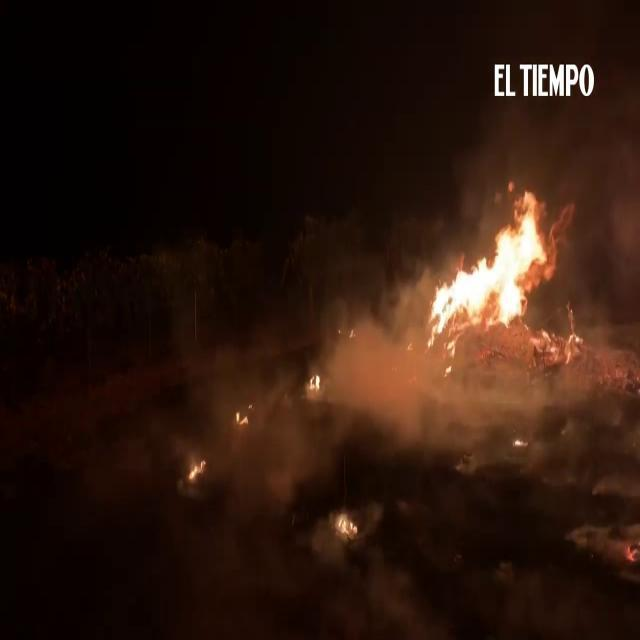Fire: (422, 198, 547, 348), (184, 456, 208, 486), (338, 514, 358, 538), (310, 372, 320, 394)
Smoke: (421, 360, 574, 430), (340, 335, 420, 435)
